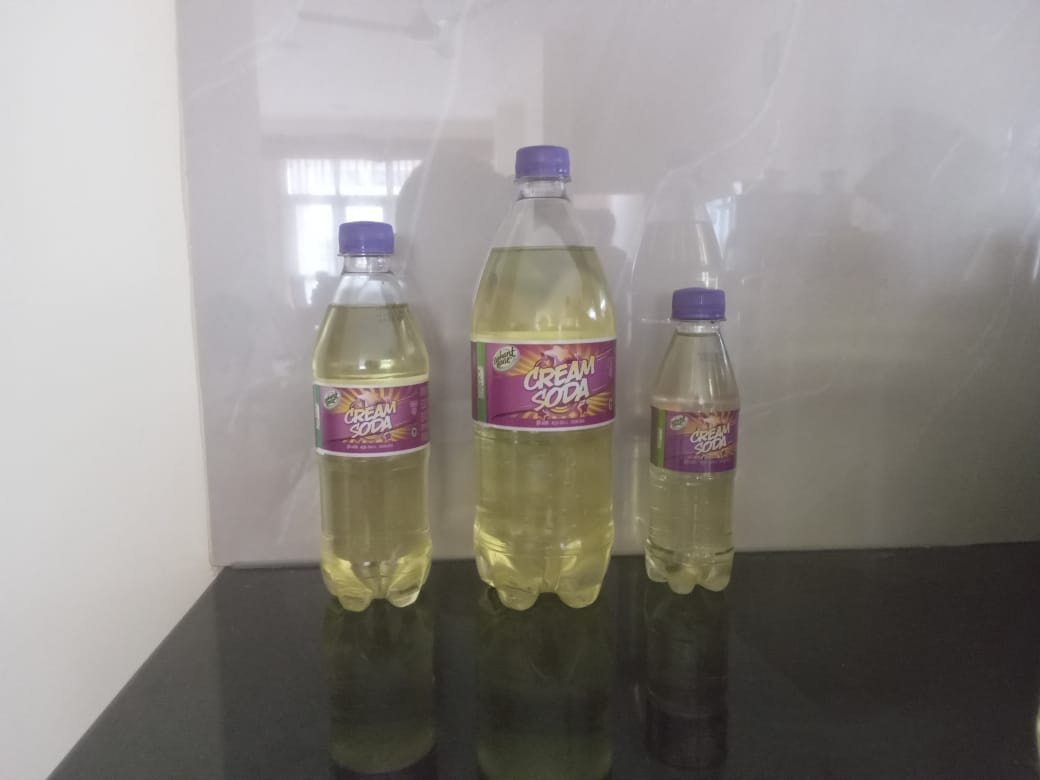L: (467, 145, 622, 619)
S: (302, 218, 441, 628)
Xs: (638, 284, 749, 612)
